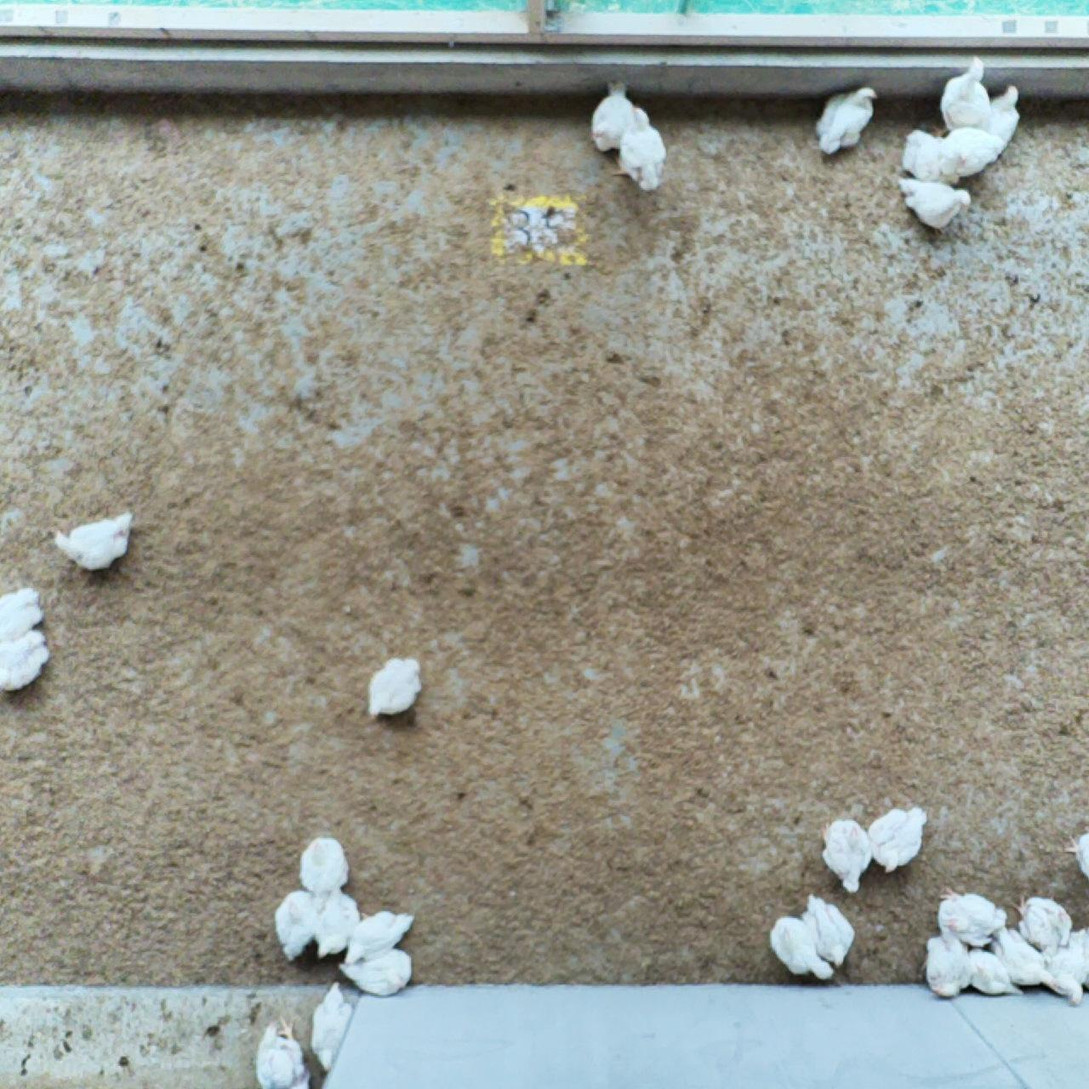chicken: (812, 80, 881, 167), (54, 514, 140, 579), (818, 815, 881, 901), (934, 54, 1000, 136), (931, 883, 1012, 947), (864, 799, 934, 872), (796, 893, 859, 971), (590, 82, 647, 167), (615, 110, 671, 195), (934, 123, 1013, 181), (296, 829, 357, 904), (339, 941, 421, 996), (900, 181, 973, 242), (252, 1018, 314, 1089), (339, 903, 417, 957), (310, 984, 356, 1069), (955, 936, 1022, 994), (366, 658, 422, 727), (267, 890, 323, 958), (987, 928, 1055, 982), (305, 890, 364, 952), (896, 123, 952, 188), (975, 81, 1025, 153), (773, 918, 826, 983), (1, 633, 54, 696), (1043, 936, 1089, 1005), (917, 932, 975, 983), (1015, 888, 1060, 938), (8, 585, 37, 637), (1073, 843, 1089, 897)
